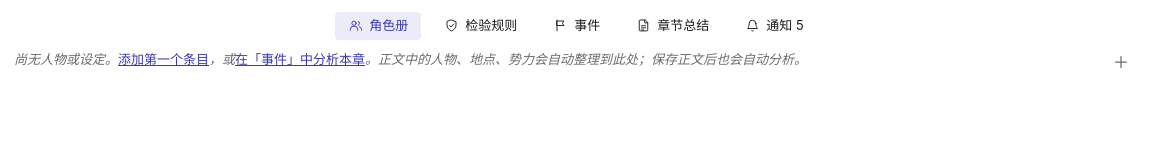
右侧信息区 › 角色册空着的时候，别的格不再被一句「先去加人」挡住
Expected: the button named "建人物 / 地点 / 势力…" is shown, [1104,46,1138,76]
Click the button "检验规则". click: (481, 26)
box: [431,12,530,40]
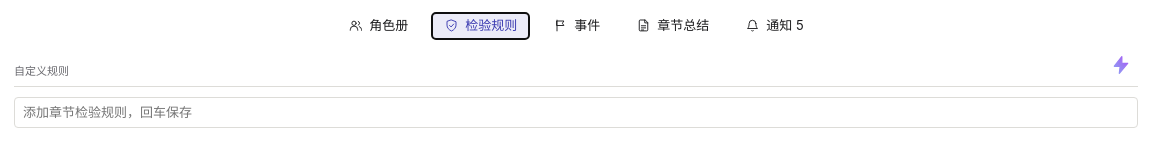
Result: the field with placeholder "添加章节检验规则，回车保存" is shown at [14,96,1138,128]
Click the button "事件". click: (577, 26)
box: [540,12,613,40]
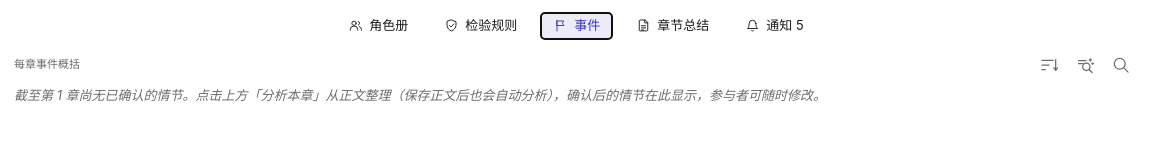
Result: the button named "分析本章" is shown at [1068,50,1102,80]
Result: the text "点击上方「分析本章」从正文整理" is shown at [14,86,826,102]
